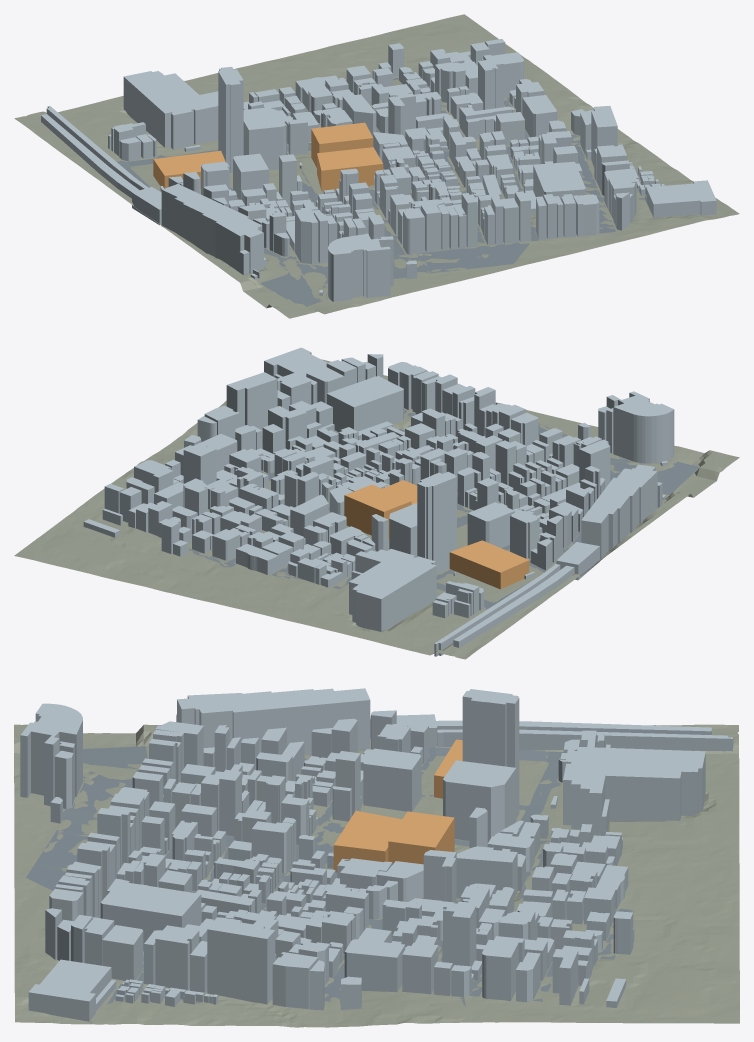
File: layout-study.gltf
3 renders of one model, top to bottom at view 1: azimuth 30°, elevation 25°; view 2: azimuth 150°, elevation 25°; view 3: azimuth 270°, elevation 25°, orthographic. The views are drawn at different scales.
Parts seen in each view (by area): view 1: PLATEAU source TIN terrain, bldg_c53f7060-6396-4640-afa2-bcd49763d7a4, bldg_d4b3cef2-fb52-49ca-bc5f-4592b4b85585, bldg_0ec83f8f-1b0b-45c2-82c9-f56cc5cbb396, 都道4号 (×3), bldg_448c2b6d-9aad-4dbe-b3ca-81e048c21d4b, bldg_58ef3c46-5224-44f3-bfdf-be7268c4ed99, bldg_6cfc385a-5faf-4275-93a8-5d879a78edad, 旧コマ劇場・南側屋根の仮輪郭, 新宿区役所, 北隣の劇場街区・同定未確定の屋根輪郭, 西武新宿駅 (+32 smaller); view 2: PLATEAU source TIN terrain, bldg_c53f7060-6396-4640-afa2-bcd49763d7a4, bldg_d4b3cef2-fb52-49ca-bc5f-4592b4b85585, bldg_0ec83f8f-1b0b-45c2-82c9-f56cc5cbb396, bldg_448c2b6d-9aad-4dbe-b3ca-81e048c21d4b, 新宿区役所, ミラノ座・仮の屋根輪郭, bldg_aa98b8d0-41a4-4b17-982d-27e6da17cd7c, 北隣の劇場街区・同定未確定の屋根輪郭, bldg_48706274-cad7-4b02-961b-43f466467f5f, 西武新宿駅, bldg_6cfc385a-5faf-4275-93a8-5d879a78edad (+35 smaller); view 3: PLATEAU source TIN terrain, bldg_c53f7060-6396-4640-afa2-bcd49763d7a4, bldg_d4b3cef2-fb52-49ca-bc5f-4592b4b85585, bldg_aa98b8d0-41a4-4b17-982d-27e6da17cd7c, bldg_6cfc385a-5faf-4275-93a8-5d879a78edad, bldg_448c2b6d-9aad-4dbe-b3ca-81e048c21d4b, bldg_0ec83f8f-1b0b-45c2-82c9-f56cc5cbb396, 新宿区役所, bldg_37434a8b-e394-4ef2-b96a-b67b5f6a1d9b, bldg_58ef3c46-5224-44f3-bfdf-be7268c4ed99, bldg_48706274-cad7-4b02-961b-43f466467f5f, 都道4号 (×3) (+76 smaller).
Boxes of the visible parts, x1=… form: PLATEAU source TIN terrain: x1=14, y1=14, x2=739, y2=318; bldg_c53f7060-6396-4640-afa2-bcd49763d7a4: x1=123, y1=71, x2=218, y2=149; bldg_d4b3cef2-fb52-49ca-bc5f-4592b4b85585: x1=161, y1=184, x2=263, y2=273; bldg_0ec83f8f-1b0b-45c2-82c9-f56cc5cbb396: x1=328, y1=233, x2=393, y2=301; 都道4号 (×3): x1=260, y1=242, x2=529, y2=306; bldg_448c2b6d-9aad-4dbe-b3ca-81e048c21d4b: x1=218, y1=66, x2=243, y2=172; bldg_58ef3c46-5224-44f3-bfdf-be7268c4ed99: x1=646, y1=180, x2=716, y2=217; bldg_6cfc385a-5faf-4275-93a8-5d879a78edad: x1=243, y1=107, x2=285, y2=170; 旧コマ劇場・南側屋根の仮輪郭: x1=317, y1=147, x2=383, y2=191; 新宿区役所: x1=533, y1=161, x2=585, y2=199; 北隣の劇場街区・同定未確定の屋根輪郭: x1=311, y1=122, x2=373, y2=167; 西武新宿駅: x1=41, y1=114, x2=139, y2=198; PLATEAU source TIN terrain: x1=14, y1=359, x2=739, y2=659; bldg_c53f7060-6396-4640-afa2-bcd49763d7a4: x1=349, y1=549, x2=436, y2=631; bldg_d4b3cef2-fb52-49ca-bc5f-4592b4b85585: x1=581, y1=464, x2=657, y2=559; bldg_0ec83f8f-1b0b-45c2-82c9-f56cc5cbb396: x1=606, y1=391, x2=674, y2=463; bldg_448c2b6d-9aad-4dbe-b3ca-81e048c21d4b: x1=417, y1=471, x2=456, y2=572; 新宿区役所: x1=327, y1=376, x2=403, y2=432; ミラノ座・仮の屋根輪郭: x1=449, y1=540, x2=529, y2=589; bldg_aa98b8d0-41a4-4b17-982d-27e6da17cd7c: x1=226, y1=372, x2=277, y2=432; 北隣の劇場街区・同定未確定の屋根輪郭: x1=344, y1=484, x2=411, y2=538; bldg_48706274-cad7-4b02-961b-43f466467f5f: x1=467, y1=502, x2=514, y2=547; 西武新宿駅: x1=453, y1=565, x2=574, y2=647; bldg_6cfc385a-5faf-4275-93a8-5d879a78edad: x1=389, y1=503, x2=417, y2=557; PLATEAU source TIN terrain: x1=14, y1=724, x2=739, y2=1027; bldg_c53f7060-6396-4640-afa2-bcd49763d7a4: x1=563, y1=747, x2=705, y2=837; bldg_d4b3cef2-fb52-49ca-bc5f-4592b4b85585: x1=177, y1=688, x2=370, y2=753; bldg_aa98b8d0-41a4-4b17-982d-27e6da17cd7c: x1=207, y1=918, x2=275, y2=1004; bldg_6cfc385a-5faf-4275-93a8-5d879a78edad: x1=443, y1=760, x2=516, y2=842; bldg_448c2b6d-9aad-4dbe-b3ca-81e048c21d4b: x1=462, y1=689, x2=519, y2=817; bldg_0ec83f8f-1b0b-45c2-82c9-f56cc5cbb396: x1=20, y1=703, x2=82, y2=806; 新宿区役所: x1=100, y1=881, x2=201, y2=951; bldg_37434a8b-e394-4ef2-b96a-b67b5f6a1d9b: x1=437, y1=729, x2=733, y2=751; bldg_58ef3c46-5224-44f3-bfdf-be7268c4ed99: x1=28, y1=959, x2=111, y2=1021; bldg_48706274-cad7-4b02-961b-43f466467f5f: x1=363, y1=748, x2=421, y2=811; 都道4号 (×3): x1=26, y1=746, x2=147, y2=890.
Bounding box in the file's own units: 451 × 87.41 × 476.
